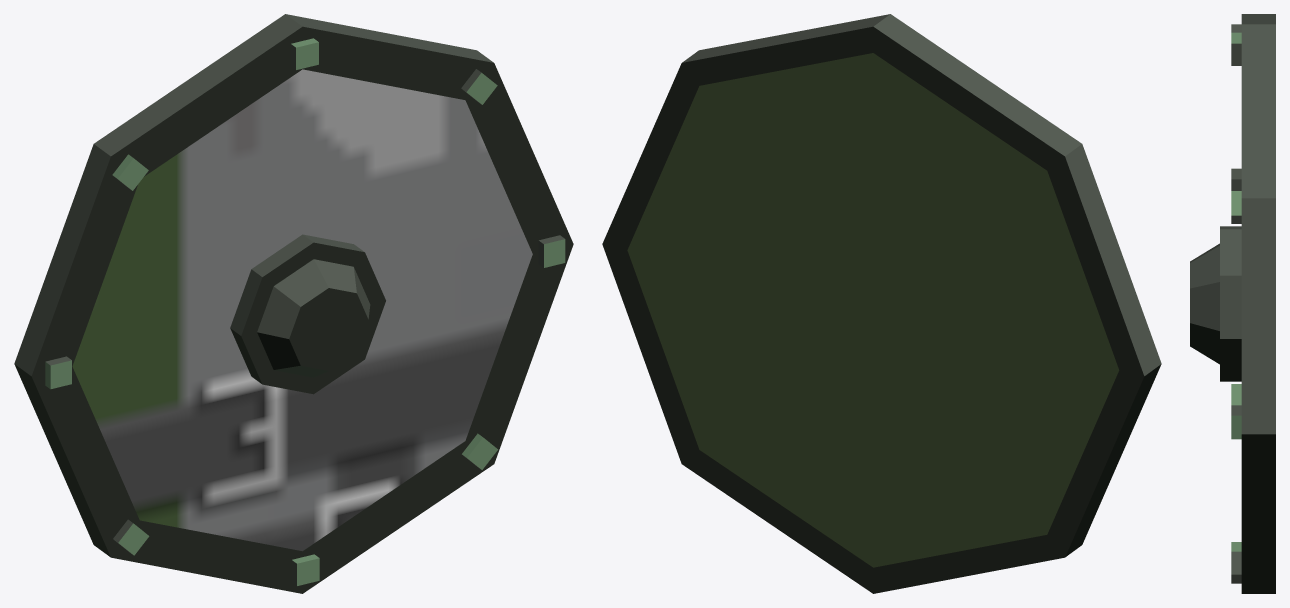
The model's file is SF_Wep_RoundShield_Symbol_05.glb.
3 views of the same model, side by side, from view 1: azimuth 30°, elevation 25°; view 2: azimuth 150°, elevation 25°; view 3: azimuth 270°, elevation 25° (orthographic).
Visible parts, largest first — view 1: SF_Wep_RoundShield_Symbol_05; view 2: SF_Wep_RoundShield_Symbol_05; view 3: SF_Wep_RoundShield_Symbol_05.
Part boxes in pixels (left/top/right/bottom): SF_Wep_RoundShield_Symbol_05: left=14, top=14, right=573, bottom=593; SF_Wep_RoundShield_Symbol_05: left=602, top=14, right=1161, bottom=593; SF_Wep_RoundShield_Symbol_05: left=1190, top=14, right=1275, bottom=593.
Size of the model in its own units: 0.014 by 0.014 by 0.00195.
1 material, 1 textured.
